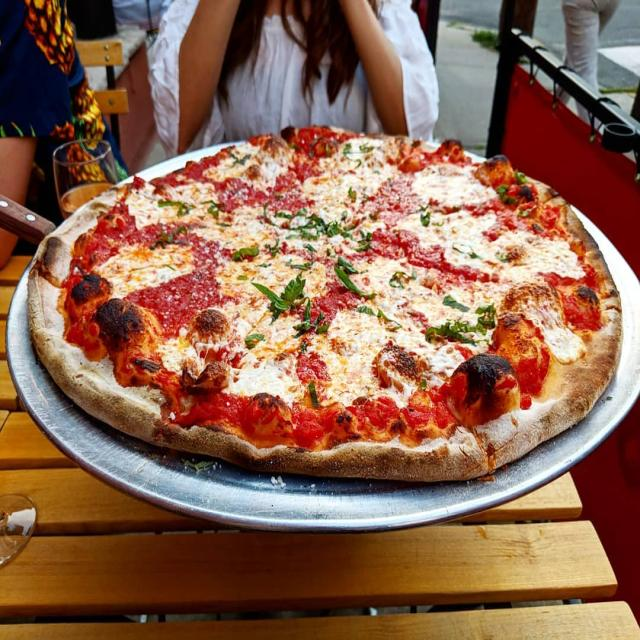basil: (249, 274, 307, 325), (421, 313, 478, 353), (348, 294, 401, 336), (327, 248, 366, 298), (286, 209, 340, 245), (293, 302, 329, 344), (150, 222, 186, 256), (259, 202, 307, 226), (154, 192, 190, 222), (385, 266, 421, 294), (327, 208, 355, 244), (300, 375, 325, 411), (449, 235, 482, 261), (476, 299, 498, 337), (340, 142, 364, 172), (228, 242, 260, 264), (284, 254, 317, 274), (442, 291, 470, 314), (262, 235, 285, 262), (242, 330, 264, 358), (200, 197, 222, 224), (352, 228, 373, 256), (230, 145, 251, 168), (496, 183, 515, 207), (418, 207, 433, 228), (510, 168, 527, 186), (417, 373, 429, 395), (496, 248, 508, 270), (356, 140, 372, 156), (346, 185, 360, 202)
pizza: (30, 127, 620, 480)
